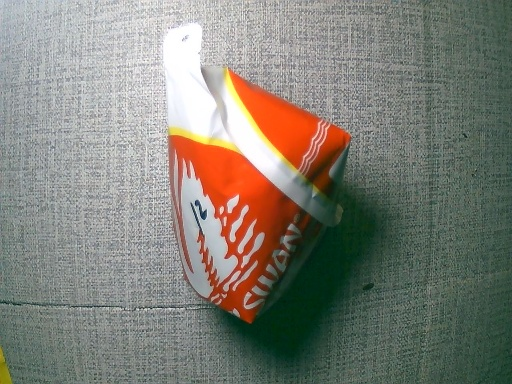plastic: (160, 28, 350, 329)
